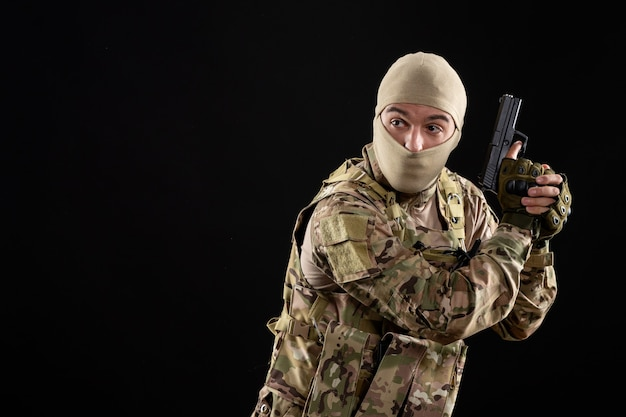gun: (480, 92, 547, 198)
